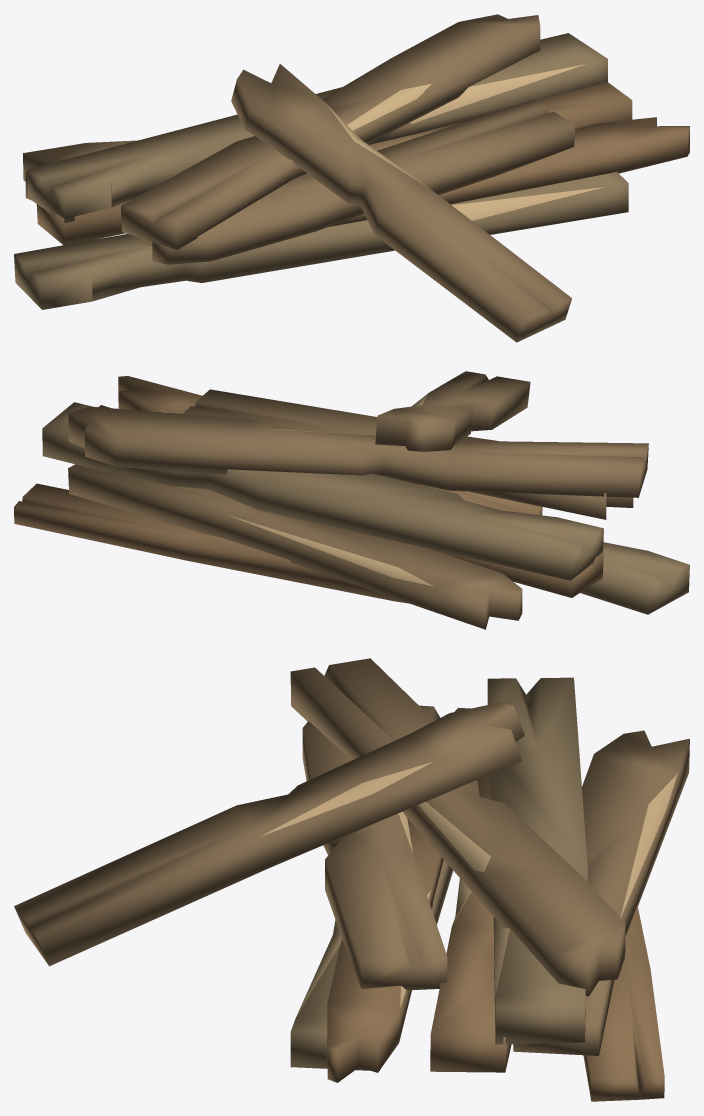
The model's file is rpgpp_av_planks_01b.gltf.
3 renders of one model, top to bottom at view 1: azimuth 30°, elevation 25°; view 2: azimuth 150°, elevation 25°; view 3: azimuth 270°, elevation 25°, orthographic. The views are drawn at different scales.
Parts seen in each view (by area): view 1: rpgpp_av_planks_01b; view 2: rpgpp_av_planks_01b; view 3: rpgpp_av_planks_01b.
Boxes of the visible parts, box(x1,y1,x2,y2) form: rpgpp_av_planks_01b: box(14, 14, 689, 342); rpgpp_av_planks_01b: box(14, 371, 689, 629); rpgpp_av_planks_01b: box(14, 658, 689, 1101).
Size of the model in its own units: 0.027 by 0.00617 by 0.0206.
Materials: 1 (1 with a texture image).
